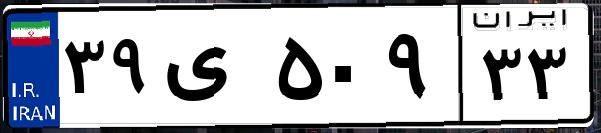0: (330, 28, 385, 110)
3: (57, 26, 110, 100), (475, 38, 525, 113), (525, 38, 570, 115)
5: (270, 28, 330, 110)
9: (385, 28, 445, 110), (110, 28, 158, 98)
ی: (158, 20, 270, 120)
